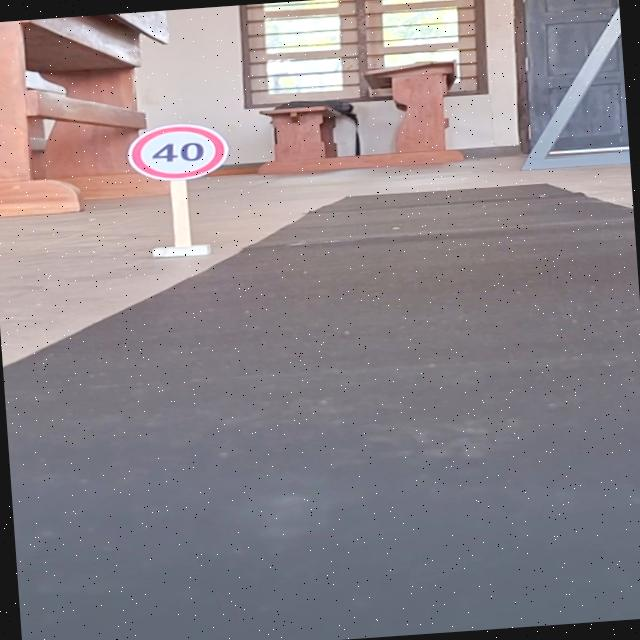Speed40: (120, 117, 234, 186)
